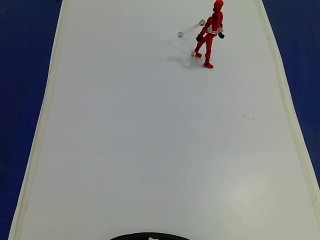pedestrian: (186, 0, 232, 78)
